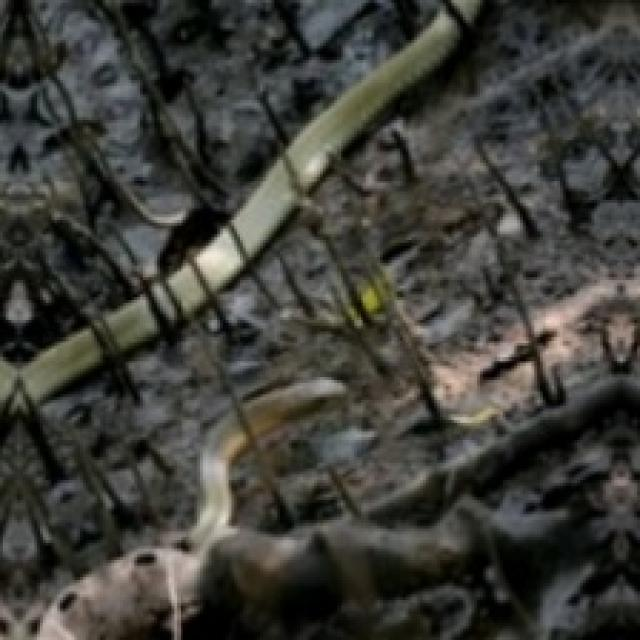king cobra: (0, 0, 637, 637), (151, 9, 460, 329)
